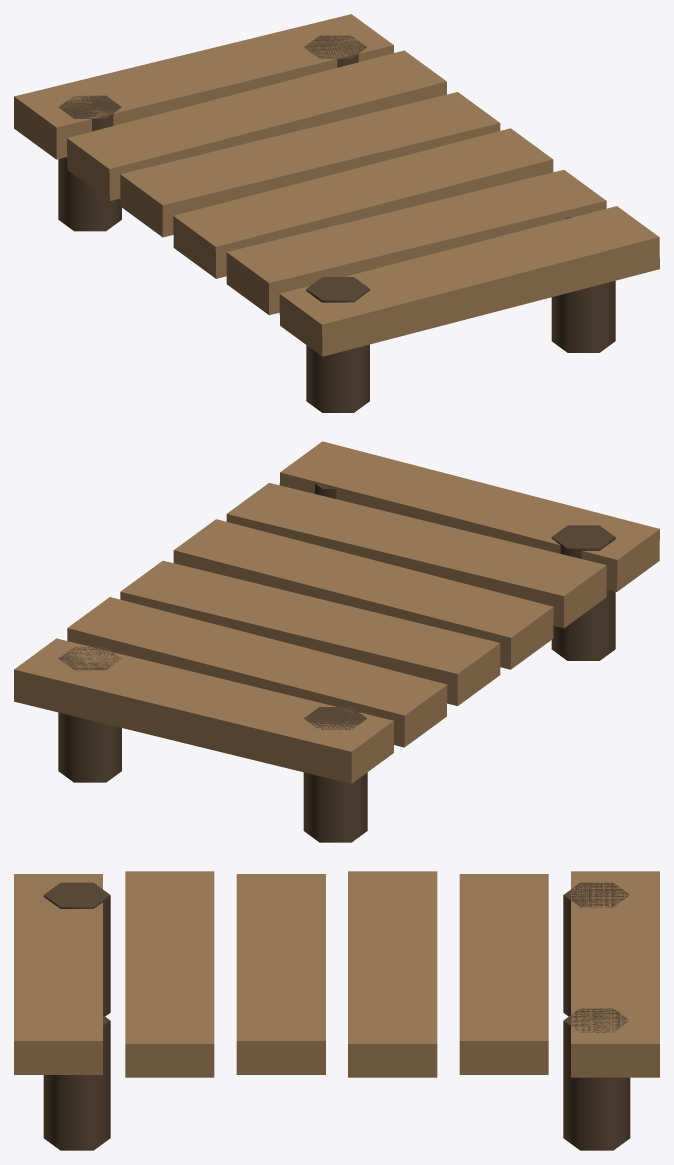
File: raised-planks.glb
The picture shows the model from 3 angles, top to bottom: view 1: azimuth 30°, elevation 25°; view 2: azimuth 150°, elevation 25°; view 3: azimuth 270°, elevation 25°; orthographic projection. The views are drawn at different scales.
Parts seen in each view (by area): view 1: raised-planks; view 2: raised-planks; view 3: raised-planks.
Part boxes in pixels (box(x1,y1,x2,y2)): raised-planks: box(14, 14, 659, 412); raised-planks: box(14, 441, 659, 842); raised-planks: box(14, 871, 659, 1150).
Size of the model in its own units: 1.1 by 0.3582 by 1.74.
